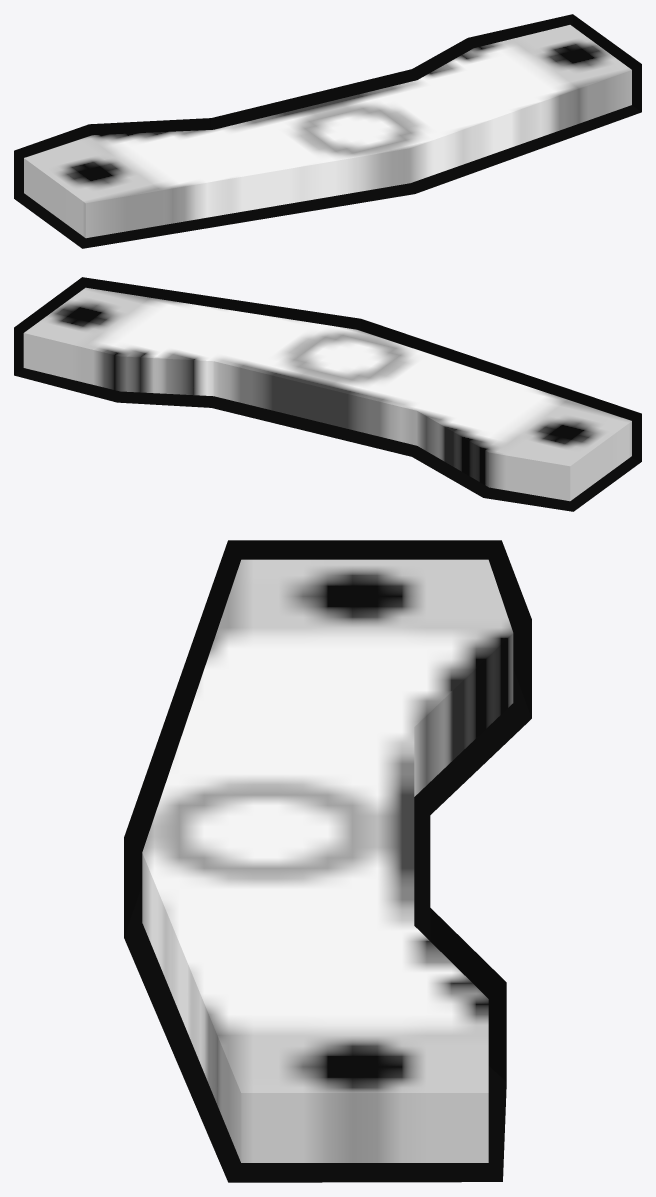
The model's file is Item_Apparel_Collar_Things_Pawn_Humanlike_Apparel_SlaveCollar_SlaveCollar.glb.
The picture shows the model from 3 angles, top to bottom: view 1: azimuth 30°, elevation 25°; view 2: azimuth 150°, elevation 25°; view 3: azimuth 270°, elevation 25°; orthographic projection. The views are drawn at different scales.
Visible parts, largest first — view 1: Body, Outline; view 2: Body, Outline; view 3: Body, Outline.
Part boxes in pixels (<box>): Body: <box>24,25,631,238</box>; Outline: <box>14,14,641,248</box>; Body: <box>23,287,631,501</box>; Outline: <box>14,277,641,511</box>; Body: <box>142,559,513,1162</box>; Outline: <box>124,540,531,1182</box>.
Size of the model in its own units: 0.4081 by 0.0362 by 0.1288.
2 materials, 1 textured.
